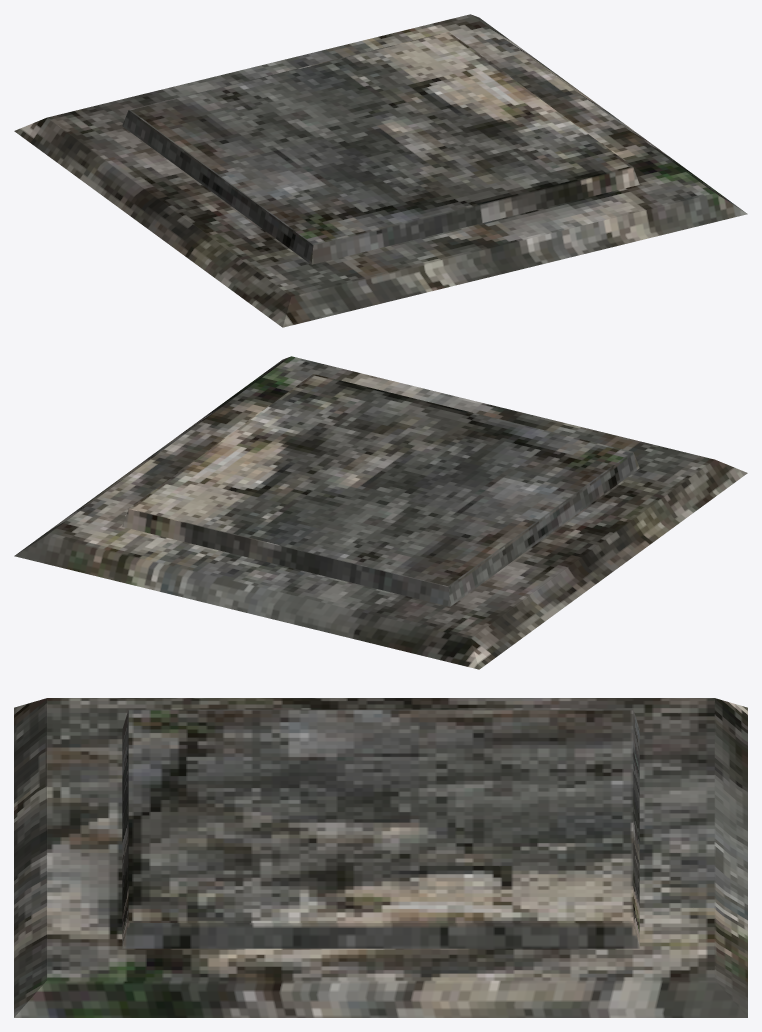
The model's file is Plita.fbx.
The picture shows the model from 3 angles, top to bottom: view 1: azimuth 30°, elevation 25°; view 2: azimuth 150°, elevation 25°; view 3: azimuth 270°, elevation 25°; orthographic projection. The views are drawn at different scales.
Visible parts, largest first — view 1: PushButton, Plita; view 2: PushButton, Plita; view 3: PushButton, Plita.
Boxes of the visible parts, x1=… form: PushButton: x1=122, y1=32, x2=639, y2=264; Plita: x1=14, y1=14, x2=747, y2=327; PushButton: x1=122, y1=374, x2=639, y2=606; Plita: x1=14, y1=356, x2=747, y2=669; PushButton: x1=122, y1=709, x2=639, y2=948; Plita: x1=14, y1=698, x2=747, y2=1017.
Size of the model in its own units: 16.08 by 1.13 by 16.08.
